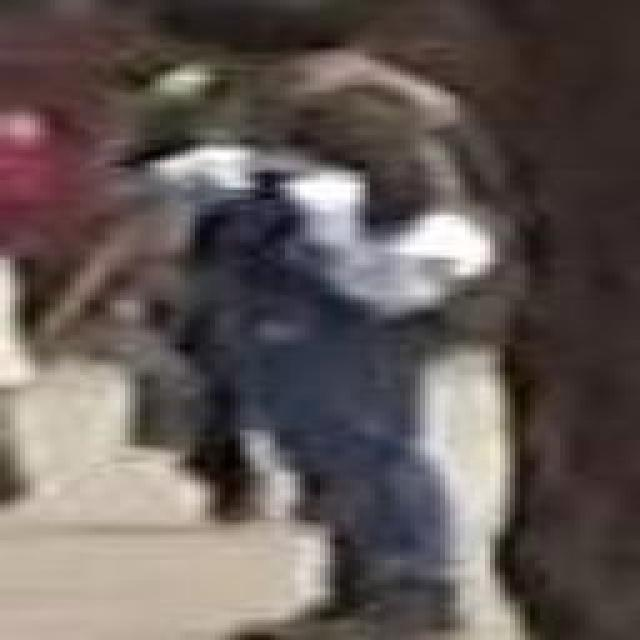adult: (85, 0, 540, 635)
